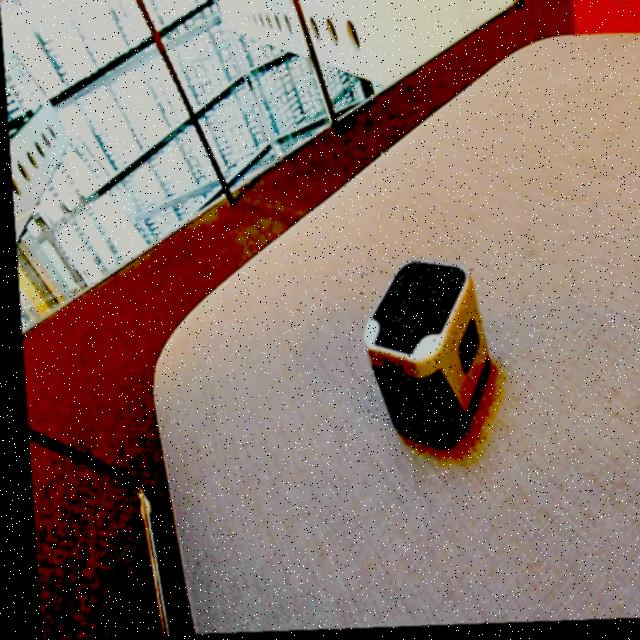adapter: (354, 258, 488, 452)
